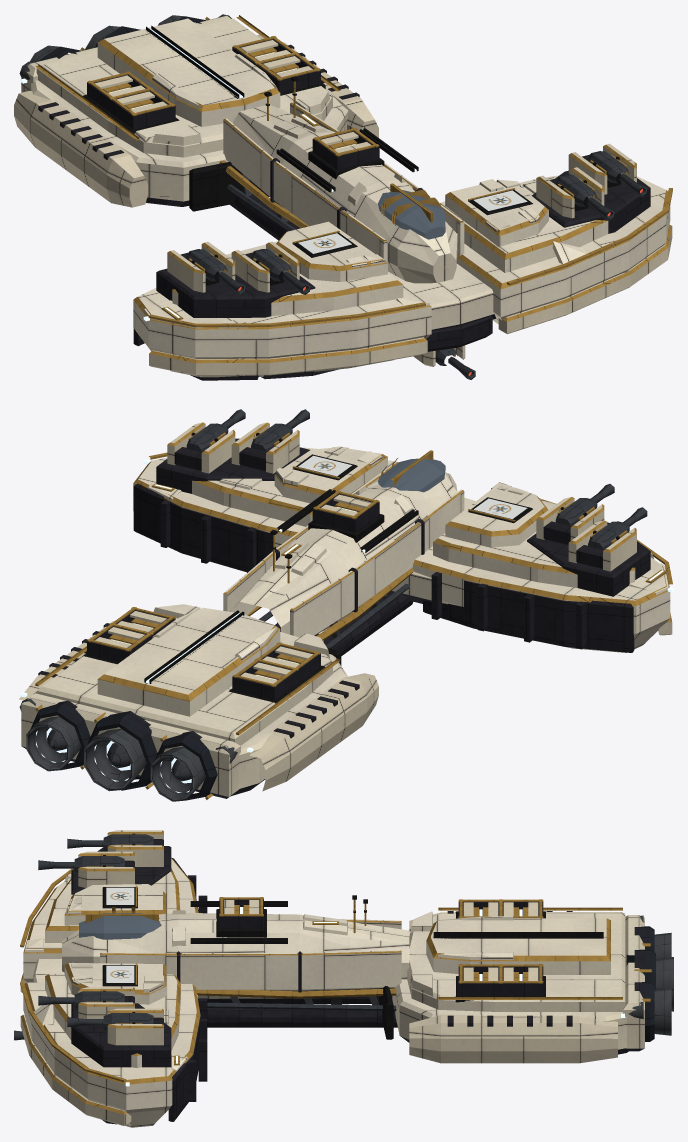
Rendered from europa-schiff3.glb.
The picture shows the model from 3 angles, top to bottom: view 1: azimuth 30°, elevation 25°; view 2: azimuth 150°, elevation 25°; view 3: azimuth 270°, elevation 25°; orthographic projection. The views are drawn at different scales.
Visible parts, largest first — view 1: Hull_LOD0, Laser_04, Laser_01, Laser_02, Laser_03, Faction_Insignia_Left, Insignia_ClanSlot_Right; view 2: Hull_LOD0, Laser_04, Laser_02, Laser_01, Laser_03, Faction_Insignia_Left, Insignia_ClanSlot_Right; view 3: Hull_LOD0, Laser_04, Laser_01, Laser_02, Laser_03, Faction_Insignia_Left, Insignia_ClanSlot_Right.
Part boxes in pixels (x1,y1,x2,y2): Hull_LOD0: (14, 14, 673, 380); Laser_04: (186, 249, 245, 294); Laser_01: (555, 174, 614, 220); Laser_02: (588, 151, 647, 197); Laser_03: (251, 249, 309, 294); Faction_Insignia_Left: (474, 190, 527, 210); Insignia_ClanSlot_Right: (298, 233, 351, 253); Hull_LOD0: (19, 422, 673, 801); Laser_04: (588, 507, 647, 549); Laser_02: (186, 409, 245, 451); Laser_01: (251, 409, 309, 451); Laser_03: (555, 484, 614, 525); Faction_Insignia_Left: (298, 455, 351, 476); Insignia_ClanSlot_Right: (474, 498, 527, 518); Hull_LOD0: (20, 830, 673, 1127); Laser_04: (67, 833, 153, 851); Laser_01: (38, 990, 124, 1008); Laser_02: (67, 1012, 153, 1030); Laser_03: (38, 855, 124, 872); Faction_Insignia_Left: (106, 965, 134, 982); Insignia_ClanSlot_Right: (106, 887, 134, 904).
Size of the model in its own units: 45.75 by 13.66 by 54.36.
Materials: 6 (4 with a texture image).
